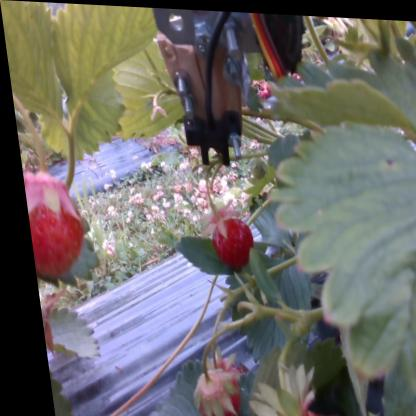ripe: (19, 179, 85, 275), (237, 378, 352, 416), (206, 214, 252, 266), (181, 369, 228, 416)
